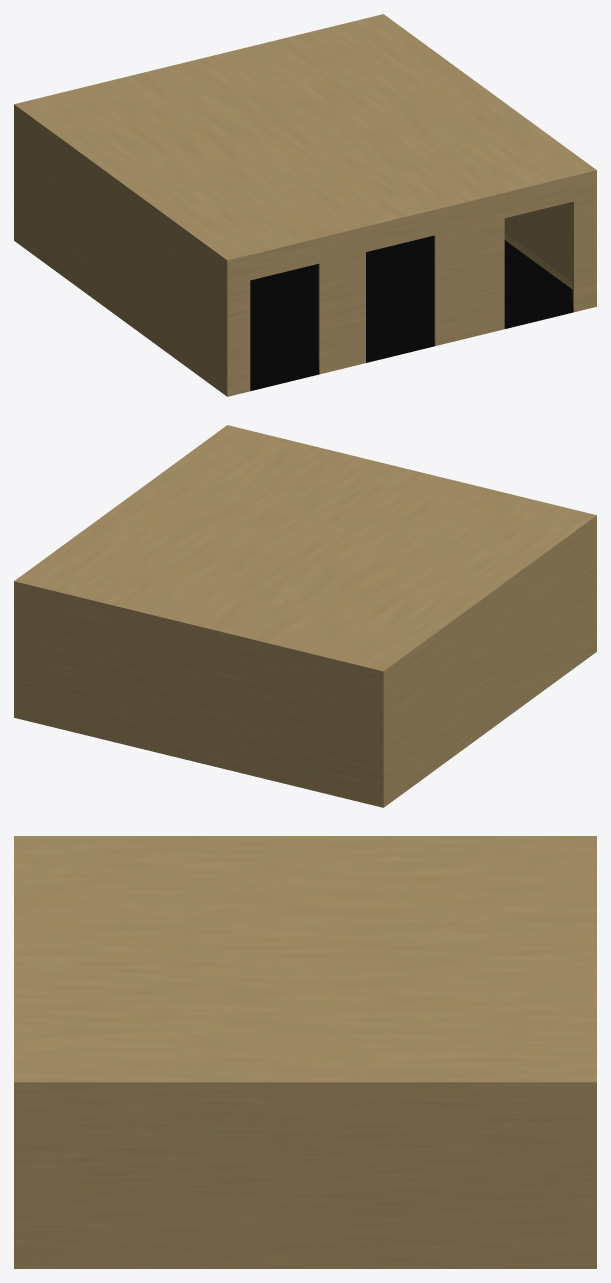
File: hub.fbx
3 views of the same model, one above another, from view 1: azimuth 30°, elevation 25°; view 2: azimuth 150°, elevation 25°; view 3: azimuth 270°, elevation 25° (orthographic). The views are drawn at different scales.
Parts seen in each view (by area): view 1: Cube; view 2: Cube; view 3: Cube.
Part boxes in pixels (x1,y1,x2,y2): Cube: (14, 14, 596, 396); Cube: (14, 425, 596, 807); Cube: (14, 836, 596, 1268).
Size of the model in its own units: 200 by 70.57 by 200.
